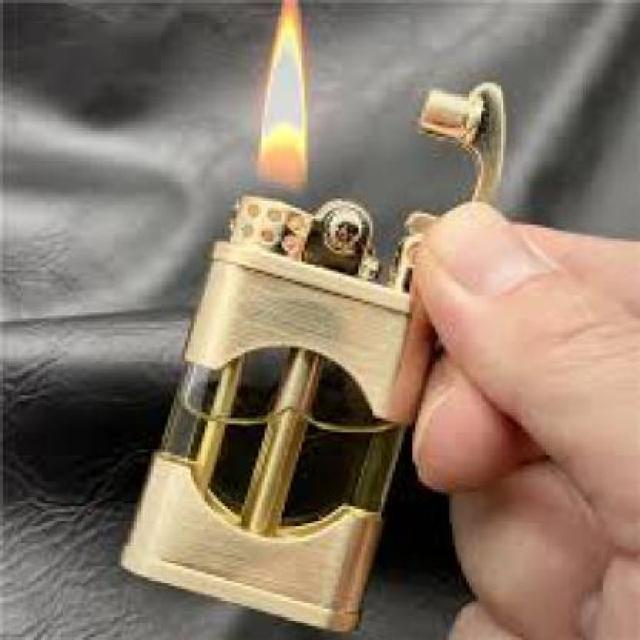fire: (226, 5, 346, 209)
